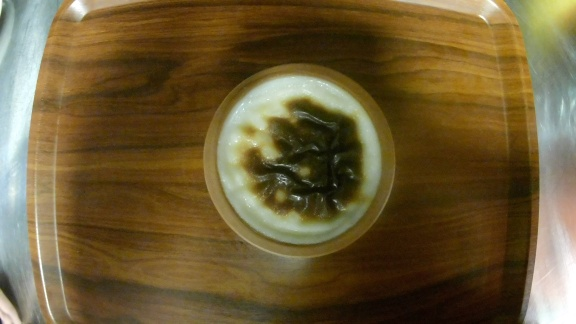sutlac: (203, 63, 397, 258)
